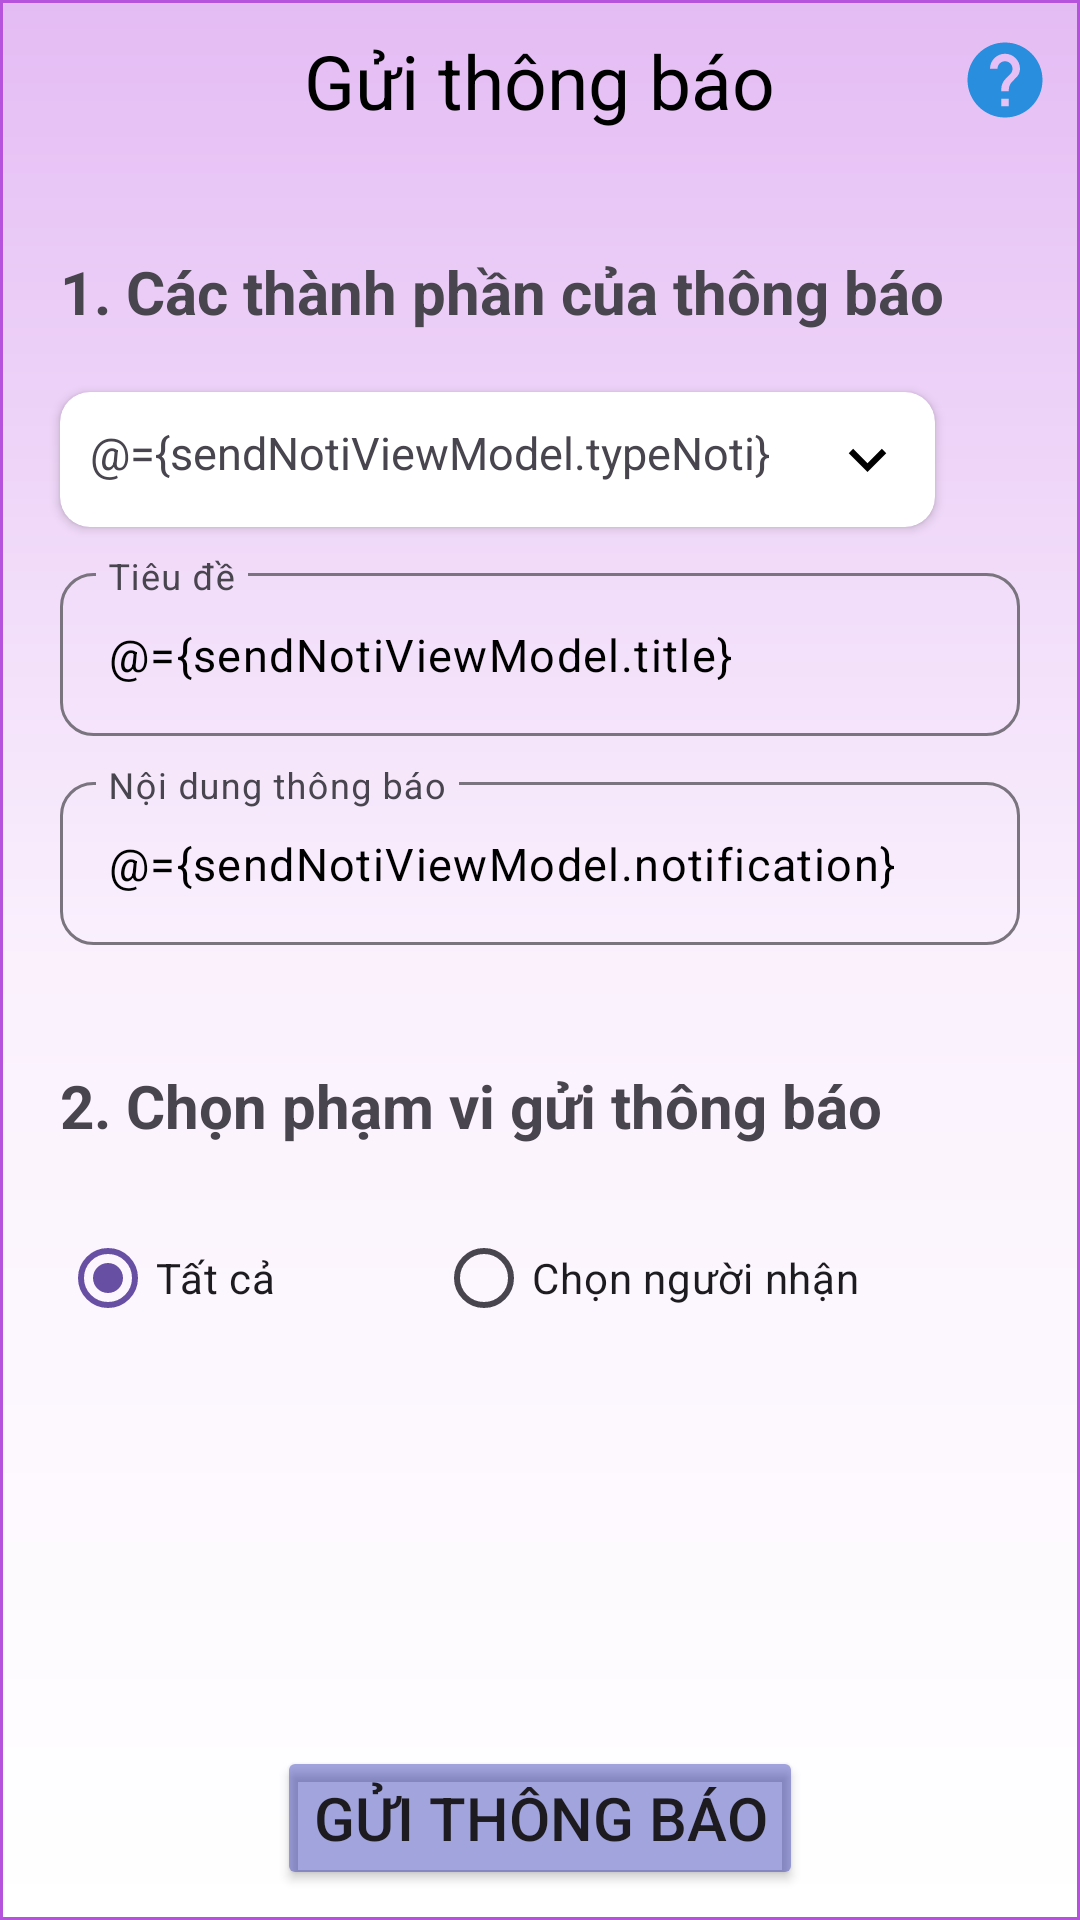

Locate icon controls on the screen. Image size 1080*1920, boxes as (x1, y1, x2, y2).
help: (967, 42, 1043, 118)
